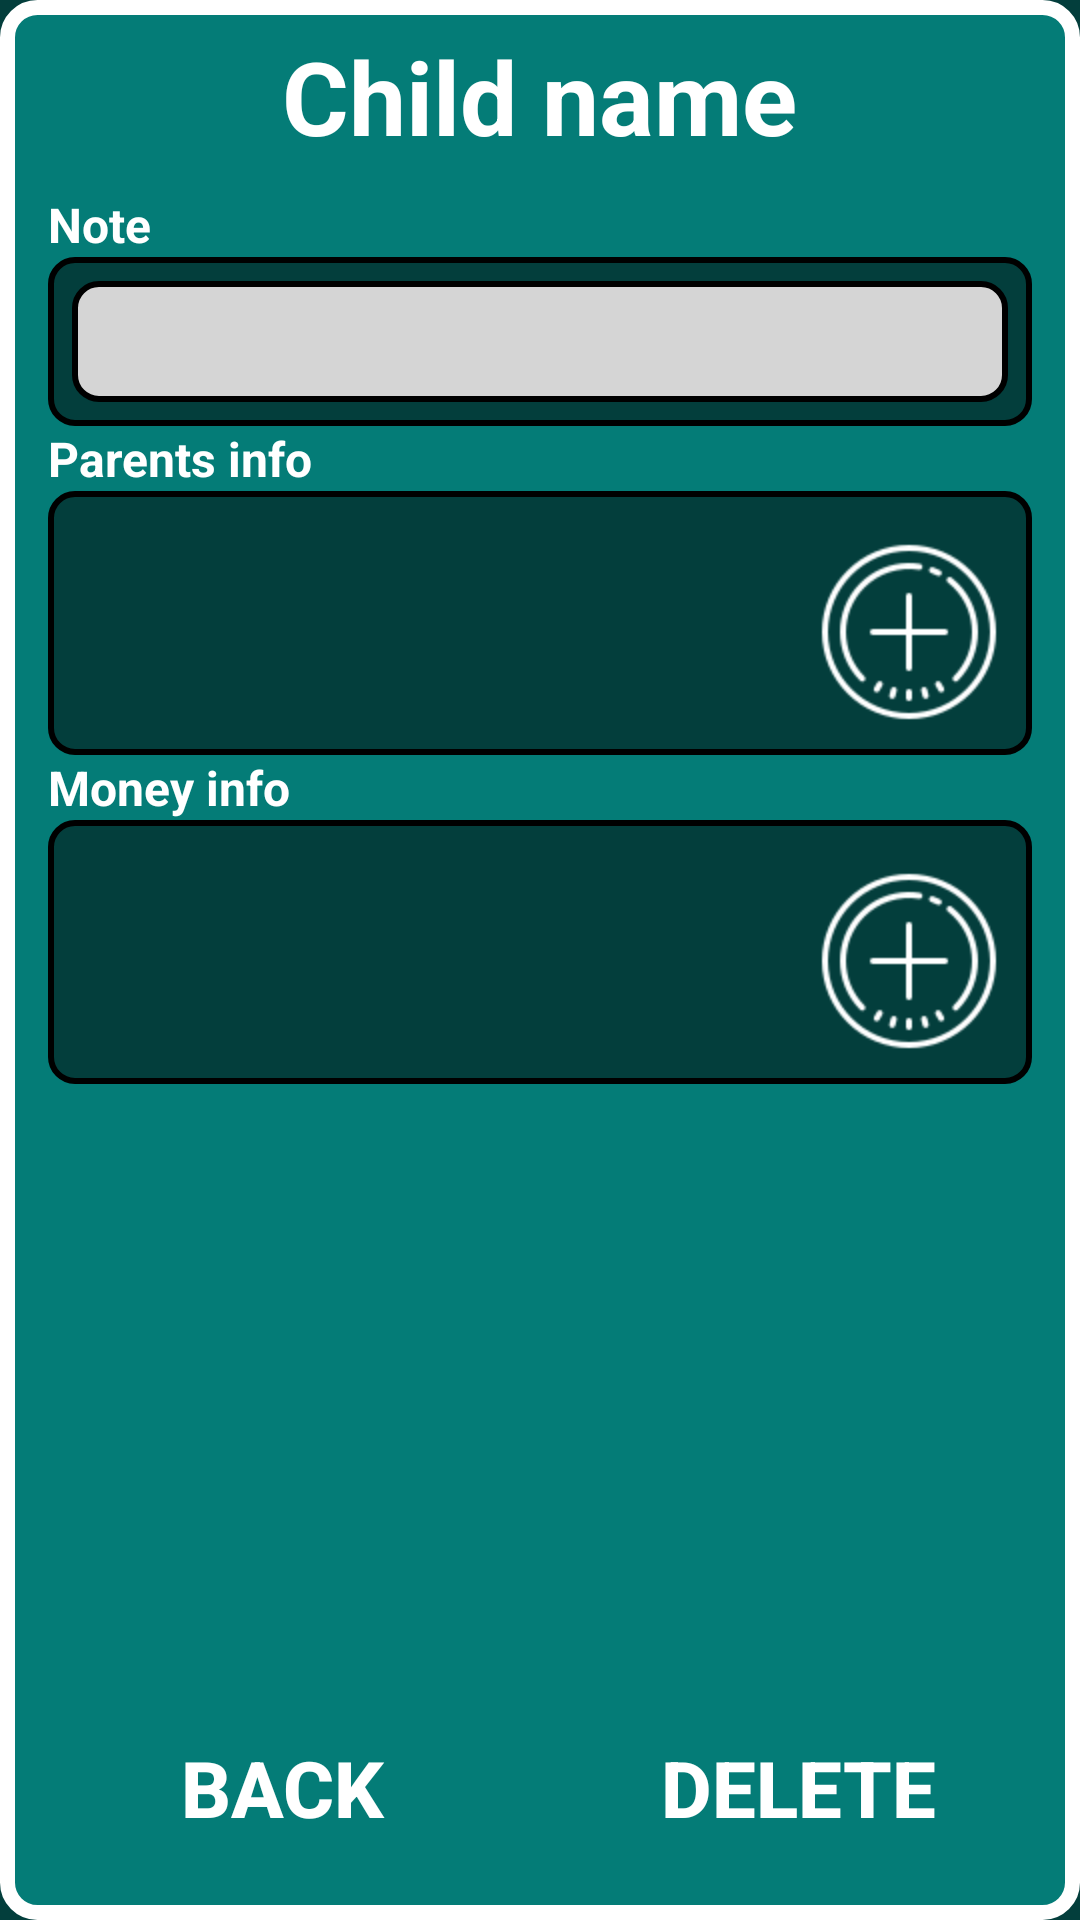

Screen size 1080px x 1920px. Icon name, then its box in pixels as bbox=[x1, y1, x2, y2]:
plus: bbox=[821, 544, 997, 720], bbox=[821, 873, 997, 1049]
